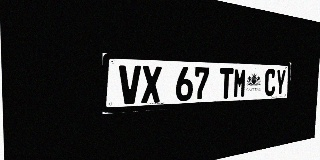6: (176, 67, 193, 101)
7: (193, 67, 209, 100)
C: (264, 69, 276, 96)
M: (233, 68, 247, 98)
T: (219, 68, 234, 99)
V: (119, 65, 141, 105)
X: (141, 66, 162, 103)
Y: (275, 69, 286, 96)
